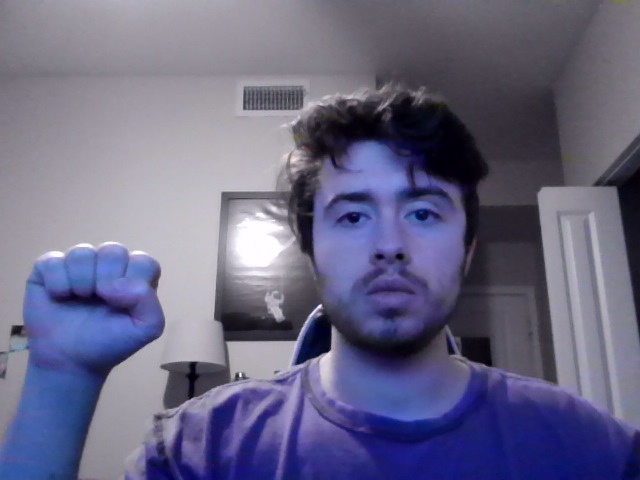s: (22, 239, 166, 408)
